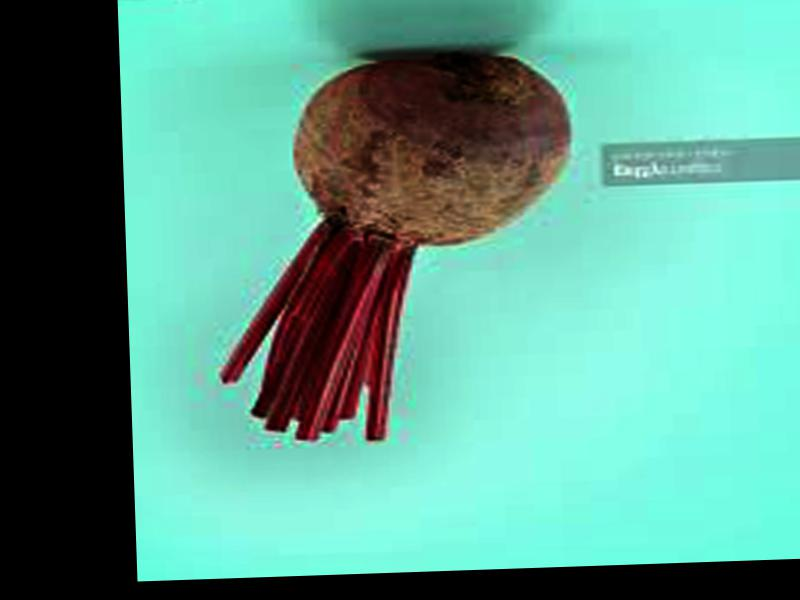Beet: (212, 48, 581, 447)
